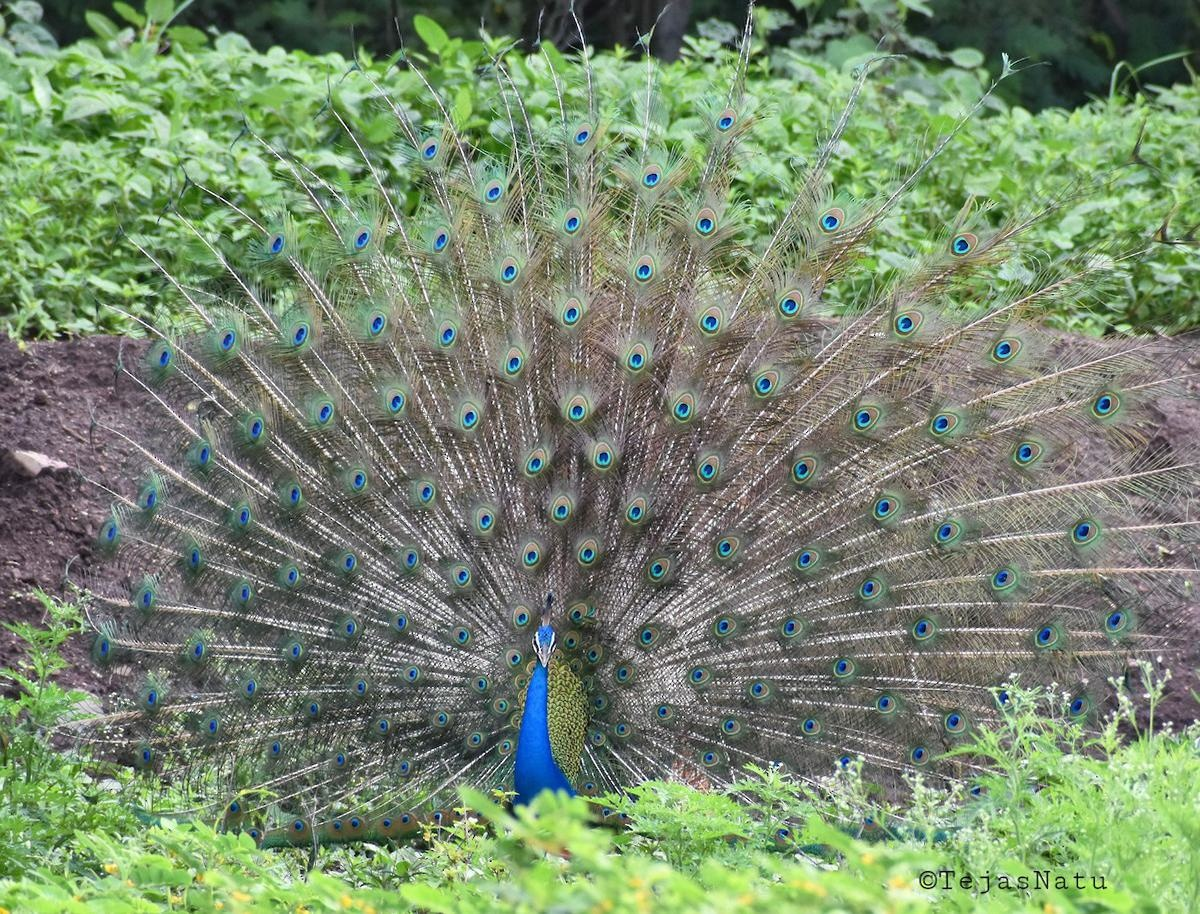peacock: (114, 228, 1150, 851)
